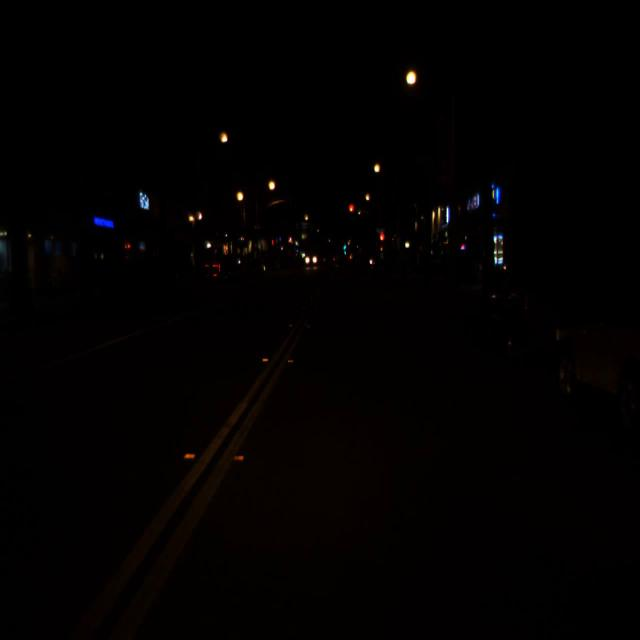go: (343, 242, 347, 250)
go traffic light: (343, 242, 347, 250)
stop: (348, 204, 354, 218), (380, 233, 384, 244)
stop traffic light: (348, 204, 354, 218), (380, 233, 384, 244)
